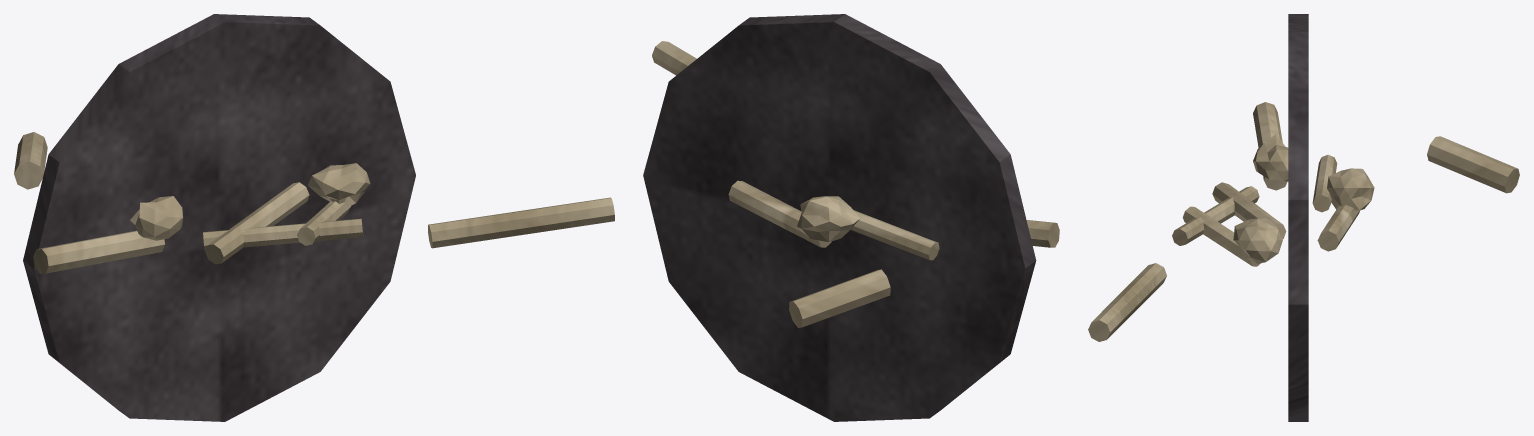
Rendered from 0234_bone_heap_09.glb.
3 renders of one model, left to right at view 1: azimuth 30°, elevation 25°; view 2: azimuth 150°, elevation 25°; view 3: azimuth 270°, elevation 25°, orthographic. The views are drawn at different scales.
Parts seen in each view (by area): view 1: ash, bone; view 2: ash, bone; view 3: bone, ash.
Part boxes in pixels (box(x1,y1,x2,y2)): ash: box(23, 14, 415, 421); bone: box(14, 132, 614, 273); ash: box(643, 14, 1036, 421); bone: box(652, 41, 1059, 327); bone: box(1088, 102, 1519, 341); ash: box(1288, 14, 1308, 421).
Bounding box in the file's own units: 2.04 × 1.6 × 1.69.
2 materials, 2 textured.
